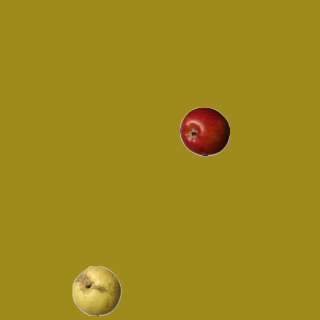Apple Braeburn: (179, 106, 229, 156)
Apple Golden 1: (71, 265, 121, 315)
